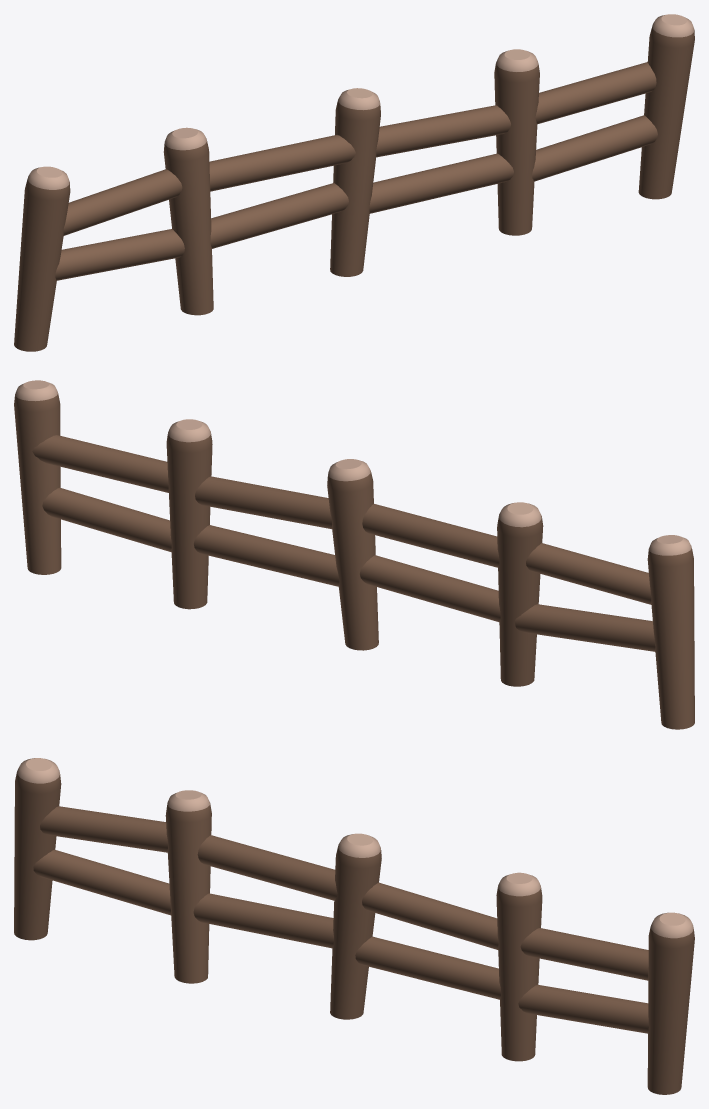
Rendered from FenceV1.fbx.
3 views of the same model, one above another, from view 1: azimuth 30°, elevation 25°; view 2: azimuth 150°, elevation 25°; view 3: azimuth 330°, elevation 25° (orthographic).
Parts seen in each view (by area): view 1: pCylinder8, pCylinder2, pCylinder11, pCylinder5, pCylinder1, pCylinder4, pCylinder6, pCylinder3, pCylinder7, pCylinder13, pCylinder9, pCylinder12 (+1 smaller); view 2: pCylinder8, pCylinder1, pCylinder5, pCylinder11, pCylinder2, pCylinder6, pCylinder3, pCylinder4, pCylinder9, pCylinder7, pCylinder12, pCylinder13 (+1 smaller); view 3: pCylinder11, pCylinder2, pCylinder1, pCylinder5, pCylinder8, pCylinder6, pCylinder4, pCylinder3, pCylinder7, pCylinder9, pCylinder13, pCylinder12 (+1 smaller).
Boxes of the visible parts, x1,y1,x2,y2 form: pCylinder8: (14, 166, 70, 351); pCylinder2: (163, 127, 213, 315); pCylinder11: (638, 14, 694, 199); pCylinder5: (494, 49, 539, 235); pCylinder1: (330, 88, 380, 276); pCylinder4: (209, 135, 355, 191); pCylinder6: (369, 153, 513, 213); pCylinder3: (210, 183, 348, 248); pCylinder7: (376, 105, 510, 157); pCylinder13: (532, 115, 657, 181); pCylinder9: (55, 229, 184, 280); pCylinder12: (535, 62, 656, 124); pCylinder8: (647, 535, 694, 729); pCylinder1: (327, 459, 378, 650); pCylinder5: (166, 419, 212, 609); pCylinder11: (14, 380, 61, 574); pCylinder2: (497, 502, 543, 686); pCylinder6: (194, 525, 339, 586); pCylinder3: (360, 555, 500, 621); pCylinder4: (362, 504, 499, 567); pCylinder9: (515, 604, 655, 651); pCylinder7: (195, 476, 331, 529); pCylinder12: (32, 435, 168, 492); pCylinder13: (42, 487, 171, 552); pCylinder11: (647, 912, 694, 1094); pCylinder2: (165, 790, 211, 983); pCylinder1: (330, 833, 381, 1019); pCylinder5: (496, 872, 542, 1061); pCylinder8: (14, 758, 61, 940); pCylinder6: (355, 936, 500, 999); pCylinder4: (197, 835, 337, 900); pCylinder3: (193, 893, 333, 948); pCylinder7: (362, 882, 498, 949); pCylinder9: (33, 849, 171, 915); pCylinder13: (518, 984, 648, 1033); pCylinder12: (520, 928, 648, 980).
Bounding box in the file's own units: 6.52 × 1.63 × 0.4641.
